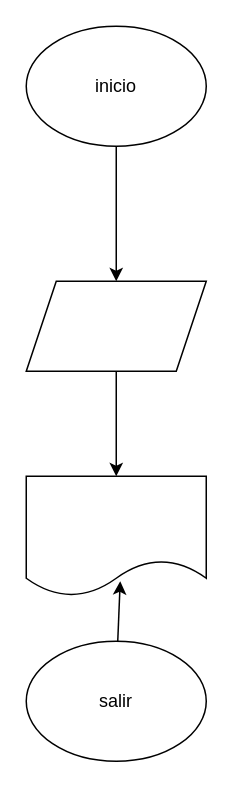
Some shapes in this 233 by 788 pixel diagram are drawn without their labels. The shapes that lost their labels are listed below. From the top down, each one's centre as x and y in pixels, then its label:
At [115,325]: "radio".
At [115,535]: "pi * radio**2".
